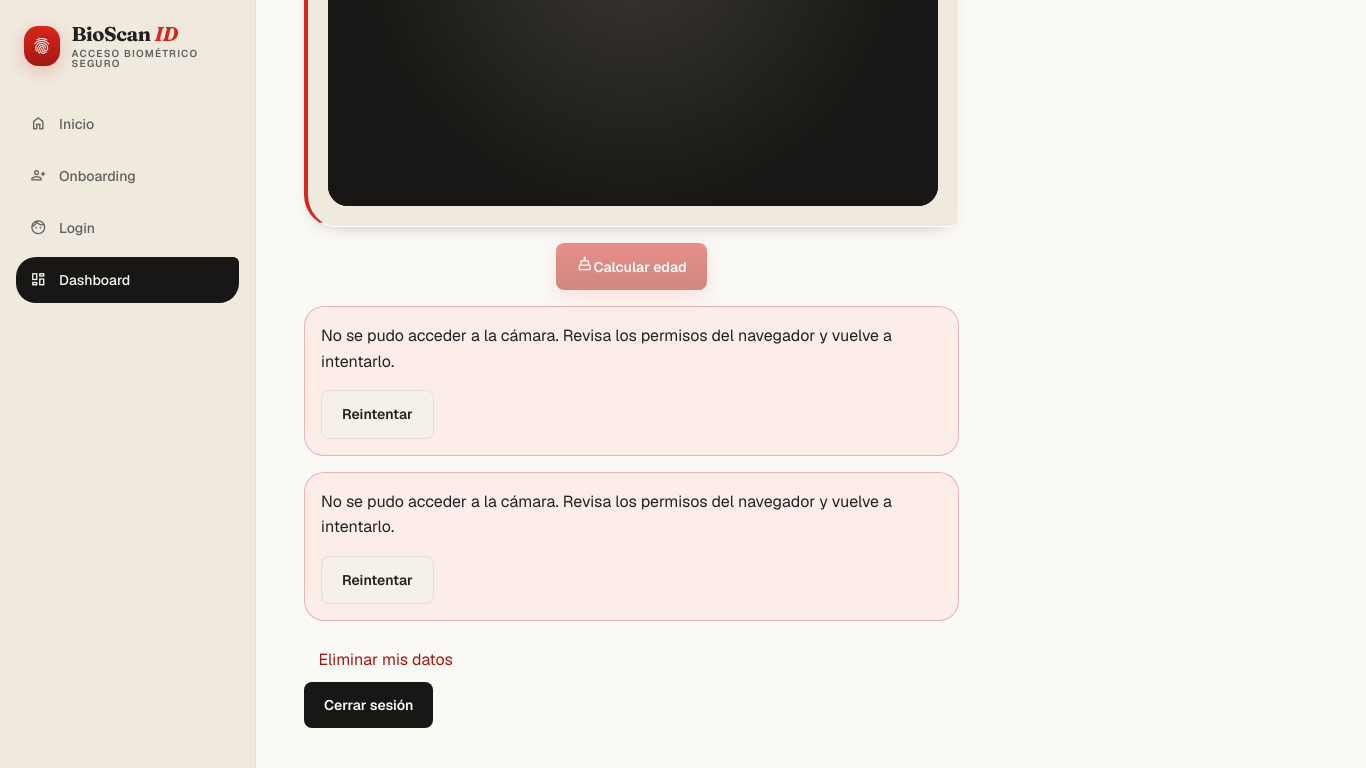
Scenario: Dashboard deletion UI (spec 006) › 401 unauthenticated → redirect to /login
The image size is (1366, 768).
(page scrolled)
What coordinates should you click on to do the following:
click the button with test id "delete-face-data-button"
I would click on:
 (386, 660)
Its box is [304,637,467,682].
(page scrolled)
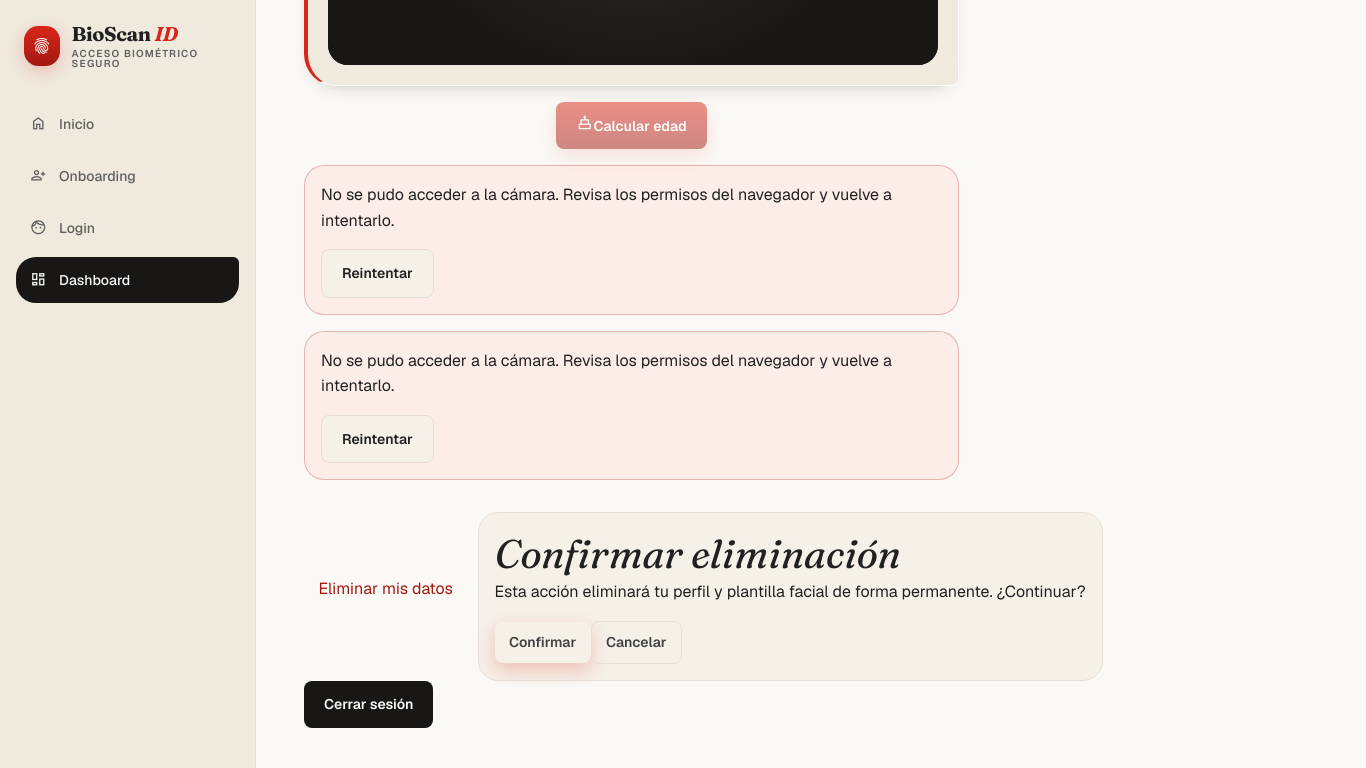
What coordinates should you click on to do the following:
click the button with test id "delete-confirm-button"
I would click on:
 (543, 643)
Its box is [495,622,591,663].
(page scrolled)
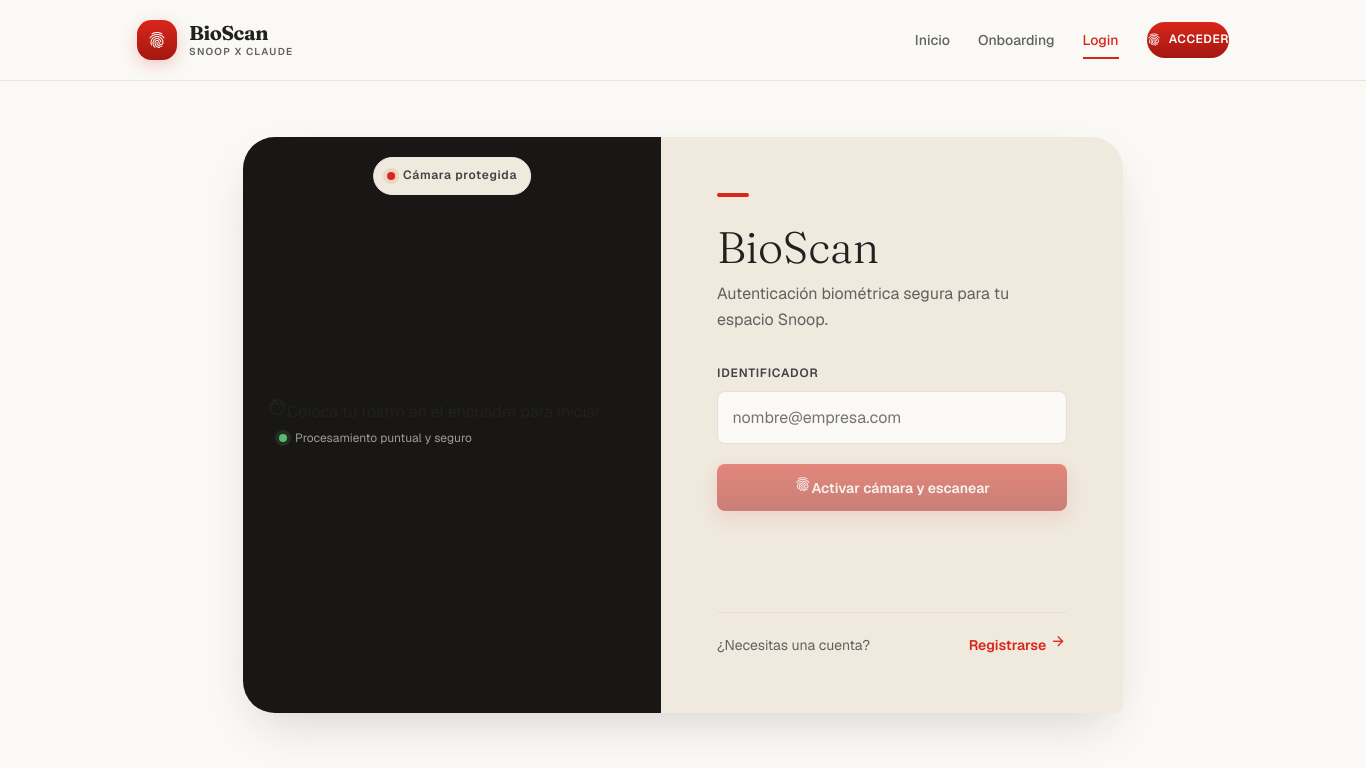
Result: the heading "BioScan" is shown at [717,220,879,274]
